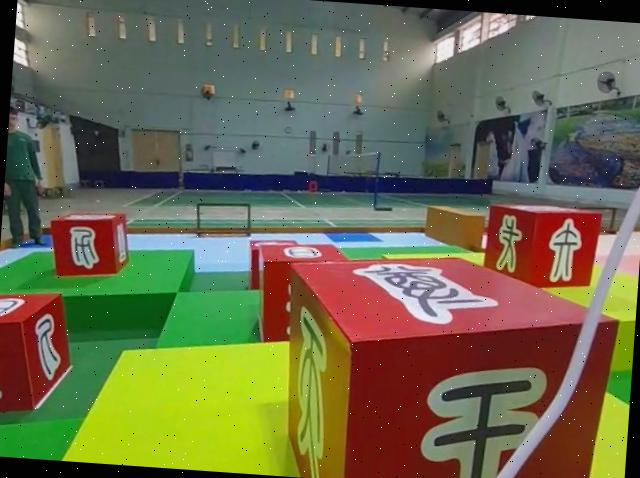R2 Fake: (271, 243, 624, 478), (479, 198, 604, 291), (0, 285, 77, 422), (43, 205, 132, 283)
